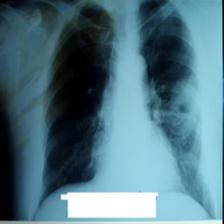tuberculosis: (40, 0, 214, 217)
